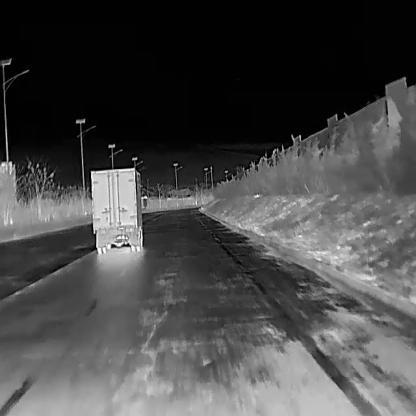car: (90, 167, 146, 253)
